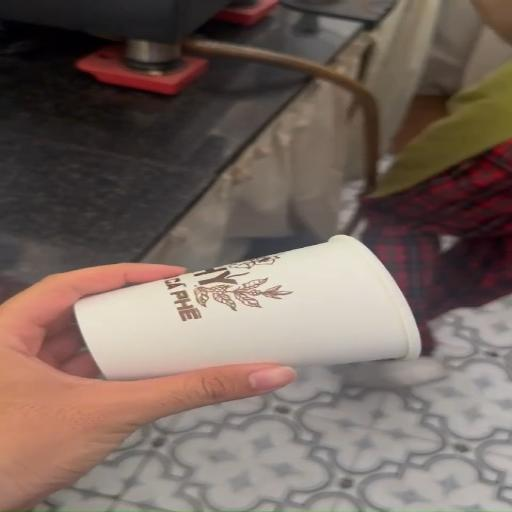Ly_giay: (75, 235, 420, 380)
